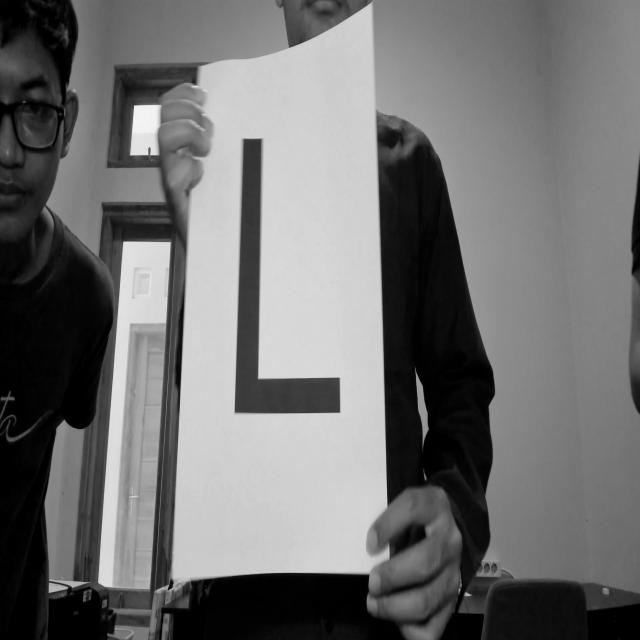l: (214, 120, 380, 473)
